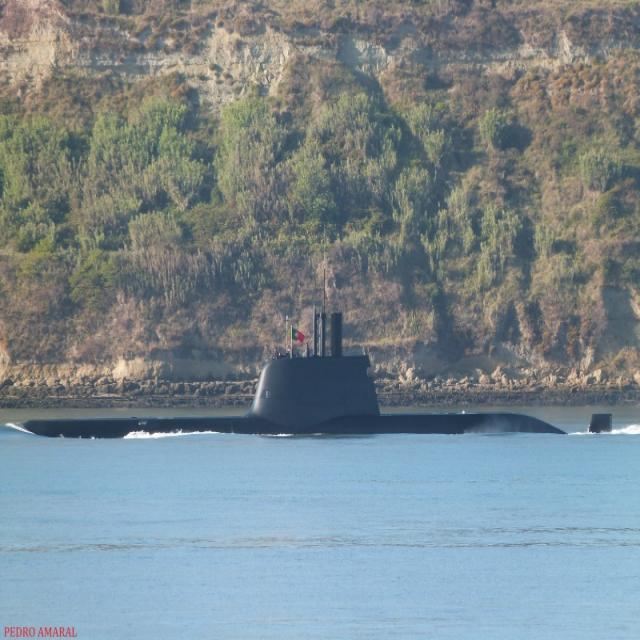submarine: (17, 311, 636, 444)
